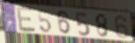5: (74, 11, 92, 38), (37, 9, 53, 34)
6: (56, 10, 72, 36), (114, 15, 129, 39)
8: (95, 13, 110, 39)
E: (16, 6, 38, 33)
